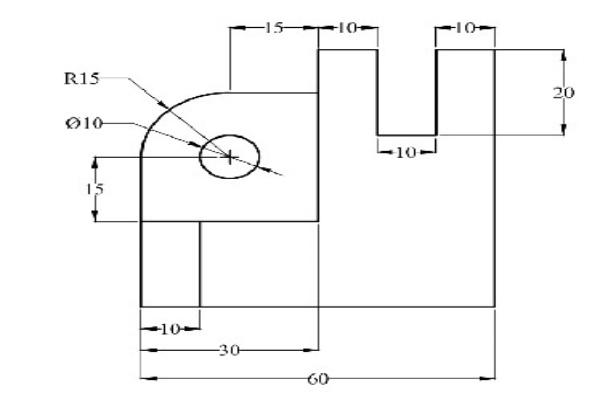dimensions: (53, 63, 107, 90), (54, 110, 110, 132), (211, 339, 245, 363), (334, 13, 363, 39), (77, 178, 112, 199), (304, 364, 333, 389), (451, 14, 480, 38), (259, 16, 290, 38), (155, 321, 184, 342), (392, 143, 421, 164), (550, 83, 578, 98)
